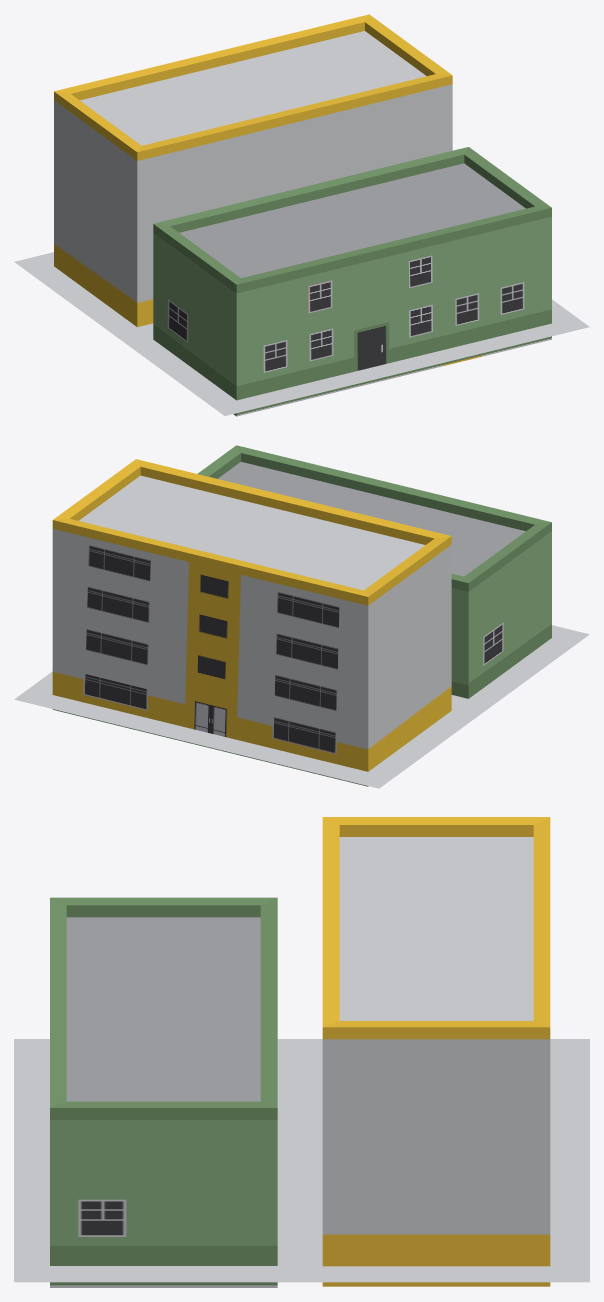
The model's file is 2immeubles_4.glb.
3 views of the same model, one above another, from view 1: azimuth 30°, elevation 25°; view 2: azimuth 150°, elevation 25°; view 3: azimuth 270°, elevation 25° (orthographic). The views are drawn at different scales.
Visible parts, largest first — view 1: coucou; view 2: coucou; view 3: coucou.
Boxes of the visible parts, <box> form: coucou: <box>14,14,589,416</box>; coucou: <box>14,445,589,788</box>; coucou: <box>14,817,589,1287</box>.
Size of the model in its own units: 15 by 7.5 by 15.
1 material, 1 textured.
